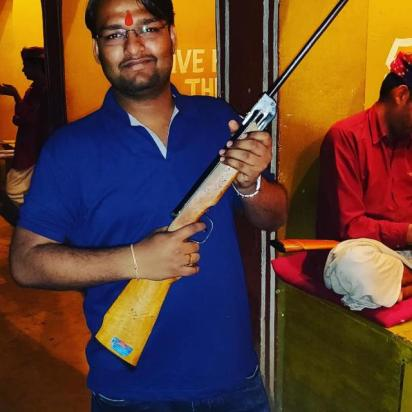Gun: (92, 0, 348, 369)
